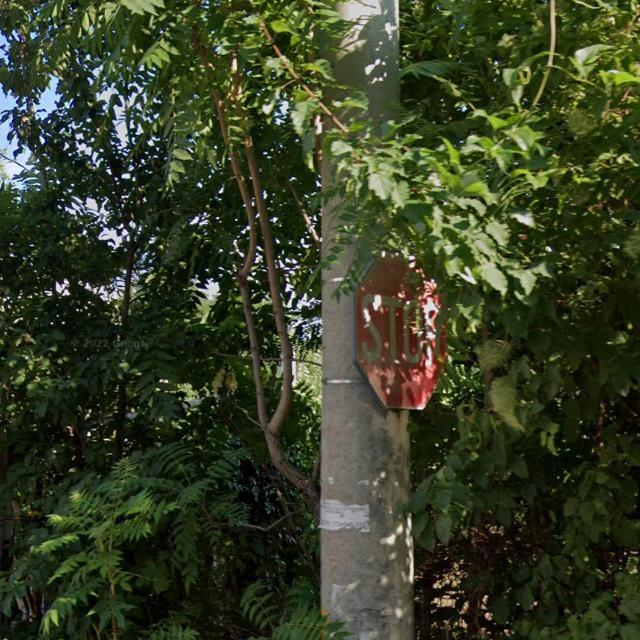prio_stop: (352, 255, 447, 410)
